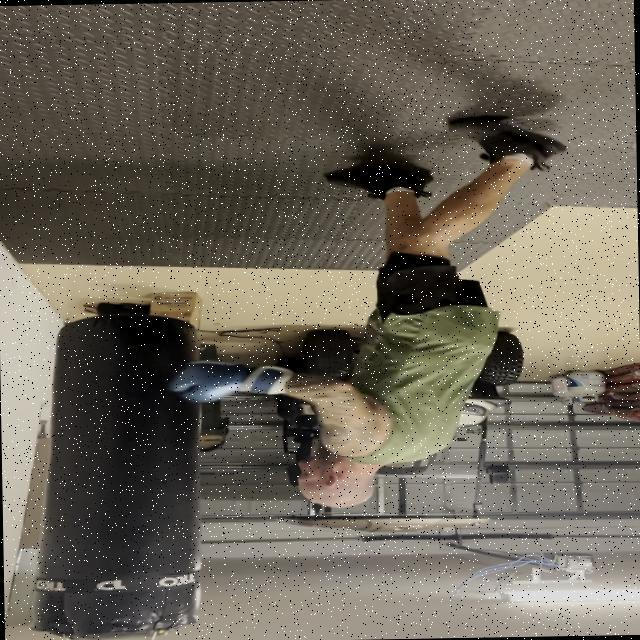bag: (35, 304, 214, 640)
hook: (157, 327, 490, 523)
